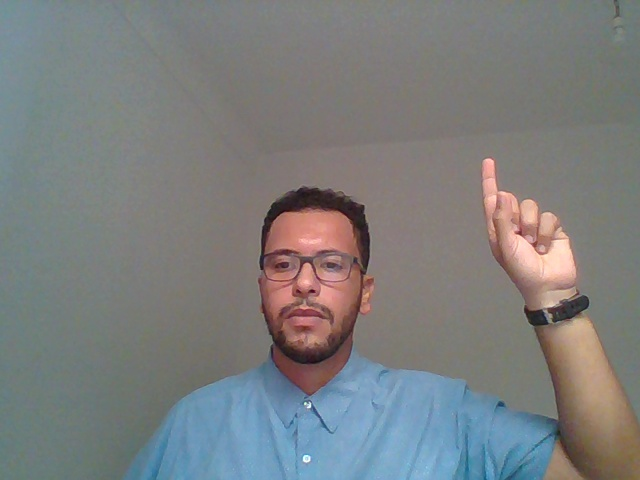handup: (454, 139, 611, 448)
